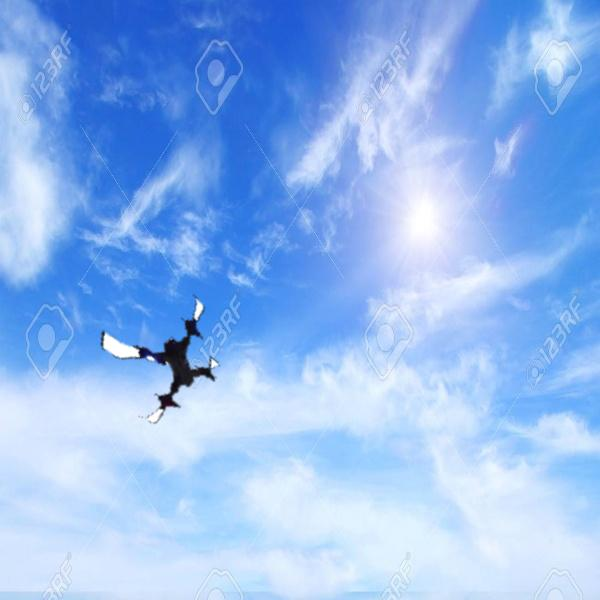drone: (90, 279, 232, 421)
